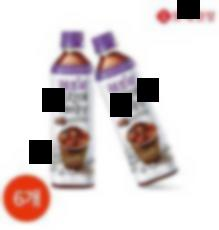letsbe_grande_hazelnut: (92, 30, 180, 188), (49, 29, 97, 190)
